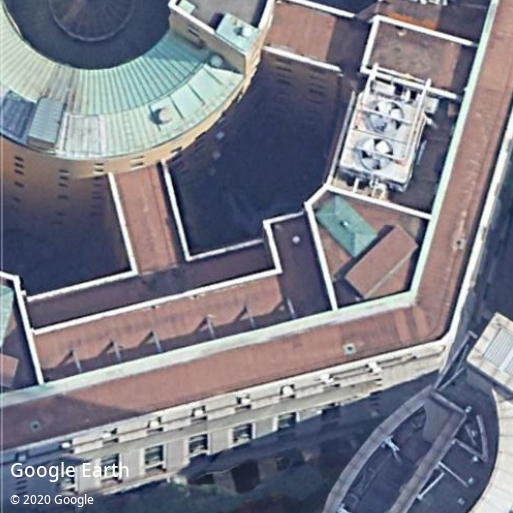Vent: (371, 101, 404, 134), (360, 138, 393, 170)
